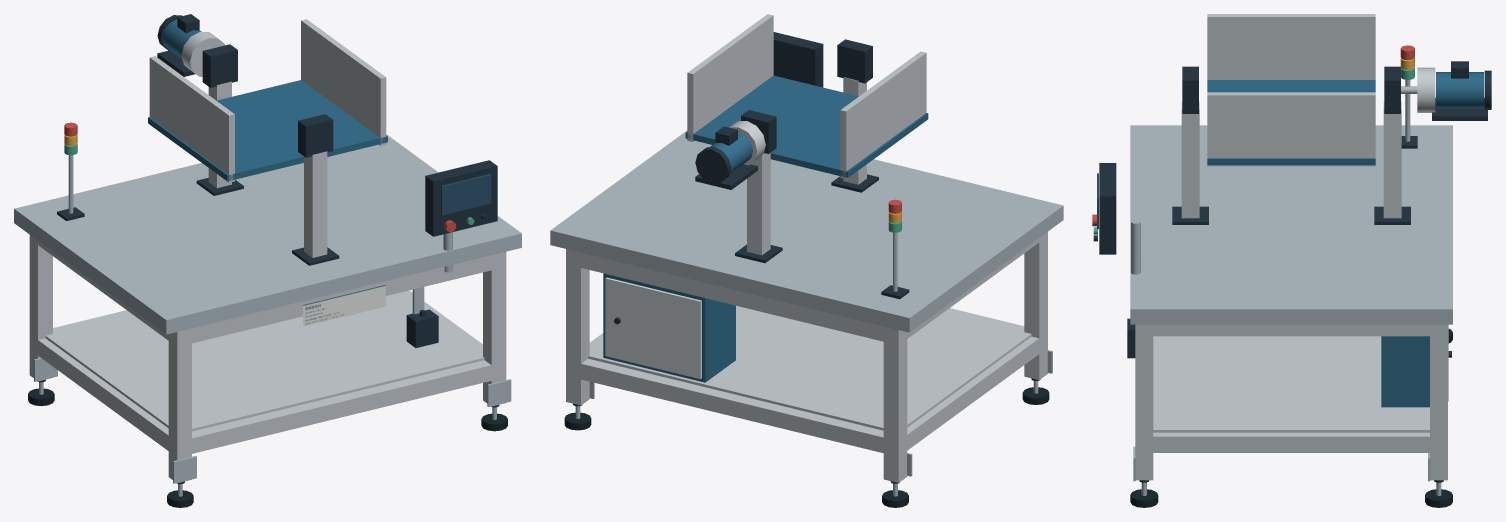
File: weld-positioner-cell.glb
3 views of the same model, side by side, from view 1: azimuth 30°, elevation 25°; view 2: azimuth 150°, elevation 25°; view 3: azimuth 270°, elevation 25° (orthographic). The views are drawn at different scales.
Parts seen in each view (by area): view 1: ClosedMachineBed_28, LowerShelf_29, TiltingCradle_54, SlottedExtrusion_22, CradleSide_55, CradleSide_56, SlottedExtrusion_23, SlottedExtrusion_24, SlottedExtrusion_8, ConsoleBack_34, SlottedExtrusion_18, SlottedExtrusion_3 (+11 smaller); view 2: ClosedMachineBed_28, LowerShelf_29, TiltingCradle_54, BackDoor_31, SlottedExtrusion_20, CradleSide_56, CradleSide_55, SlottedExtrusion_21, SlottedExtrusion_3, Cabinet_30, SlottedExtrusion_13, SlottedExtrusion_24 (+11 smaller); view 3: ClosedMachineBed_28, LowerShelf_29, CradleSide_56, CradleSide_55, SlottedExtrusion_26, SlottedExtrusion_27, TiltingCradle_54, Cabinet_30, SlottedExtrusion_18, SlottedExtrusion_13, SlottedExtrusion_48, SlottedExtrusion_51 (+9 smaller).
Boxes of the visible parts, x1,y1,x2,y2 form: ClosedMachineBed_28: (14, 134, 521, 334); LowerShelf_29: (45, 291, 484, 431); TiltingCradle_54: (148, 80, 387, 181); SlottedExtrusion_22: (185, 360, 491, 453); CradleSide_55: (149, 56, 234, 182); CradleSide_56: (301, 19, 386, 145); SlottedExtrusion_23: (185, 255, 491, 344); SlottedExtrusion_24: (34, 338, 172, 453); SlottedExtrusion_8: (168, 328, 191, 483); ConsoleBack_34: (425, 160, 497, 236); SlottedExtrusion_18: (483, 252, 506, 406); SlottedExtrusion_3: (29, 235, 52, 381); ClosedMachineBed_28: (550, 130, 1063, 332); LowerShelf_29: (588, 305, 1031, 430); TiltingCradle_54: (685, 75, 928, 177); BackDoor_31: (605, 277, 701, 379); SlottedExtrusion_20: (573, 358, 891, 453); CradleSide_56: (687, 14, 773, 141); CradleSide_55: (840, 51, 926, 179); SlottedExtrusion_21: (581, 252, 890, 341); SlottedExtrusion_3: (883, 326, 907, 482); Cabinet_30: (603, 273, 735, 382); SlottedExtrusion_13: (566, 249, 589, 405); SlottedExtrusion_24: (904, 335, 1043, 450); ClosedMachineBed_28: (1130, 125, 1452, 324); LowerShelf_29: (1153, 336, 1429, 432); CradleSide_56: (1207, 92, 1375, 166); CradleSide_55: (1207, 14, 1375, 79); SlottedExtrusion_26: (1145, 432, 1438, 452); SlottedExtrusion_27: (1144, 324, 1438, 336); TiltingCradle_54: (1207, 80, 1375, 165); Cabinet_30: (1381, 336, 1429, 407); SlottedExtrusion_18: (1135, 324, 1153, 480); SlottedExtrusion_13: (1430, 324, 1447, 480); SlottedExtrusion_48: (1383, 101, 1401, 218); SlottedExtrusion_51: (1181, 101, 1199, 218).
Size of the model in its own units: 1.55 by 1.44 by 1.42.
Materials: 11 (1 with a texture image).
